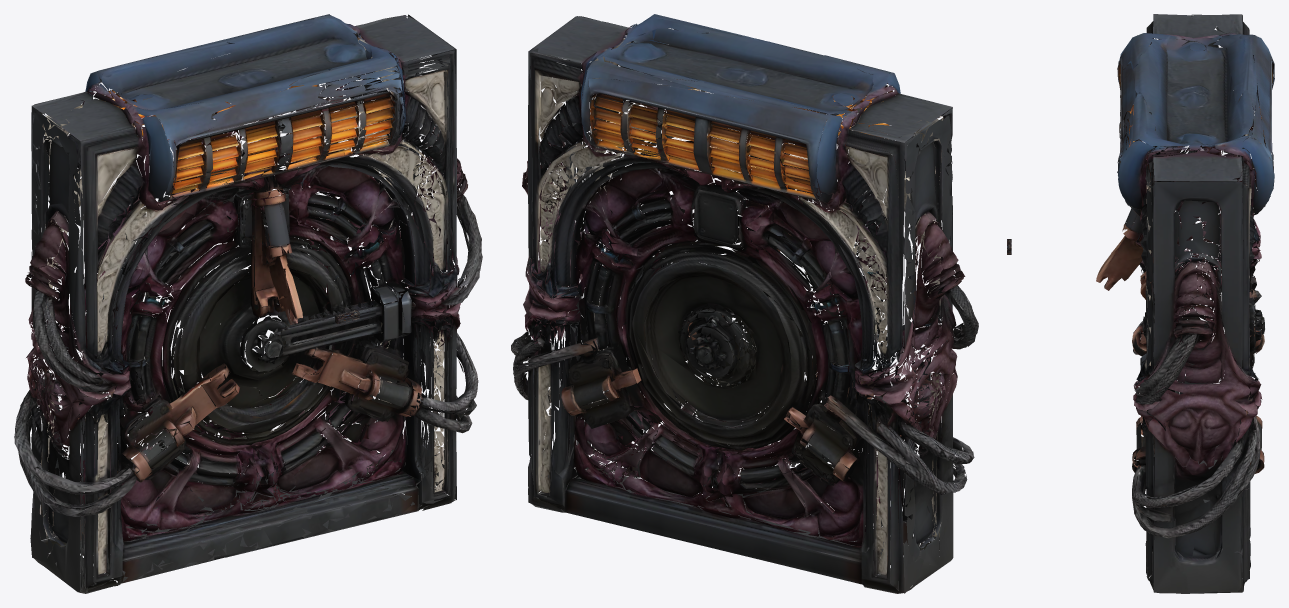
File: meridian_reactor_vent_load_selector.glb
3 renders of one model, left to right at view 1: azimuth 30°, elevation 25°; view 2: azimuth 150°, elevation 25°; view 3: azimuth 270°, elevation 25°, orthographic. The views are drawn at different scales.
Visible parts, largest first — view 1: node_0; view 2: node_0; view 3: node_0.
Boxes of the visible parts, left/top/right/bottom form: node_0: left=14, top=14, right=482, bottom=593; node_0: left=511, top=14, right=978, bottom=593; node_0: left=1096, top=14, right=1274, bottom=593.
Bounding box in the file's own units: 0.9072 × 0.9111 × 0.5176.
Materials: 1 (1 with a texture image).
